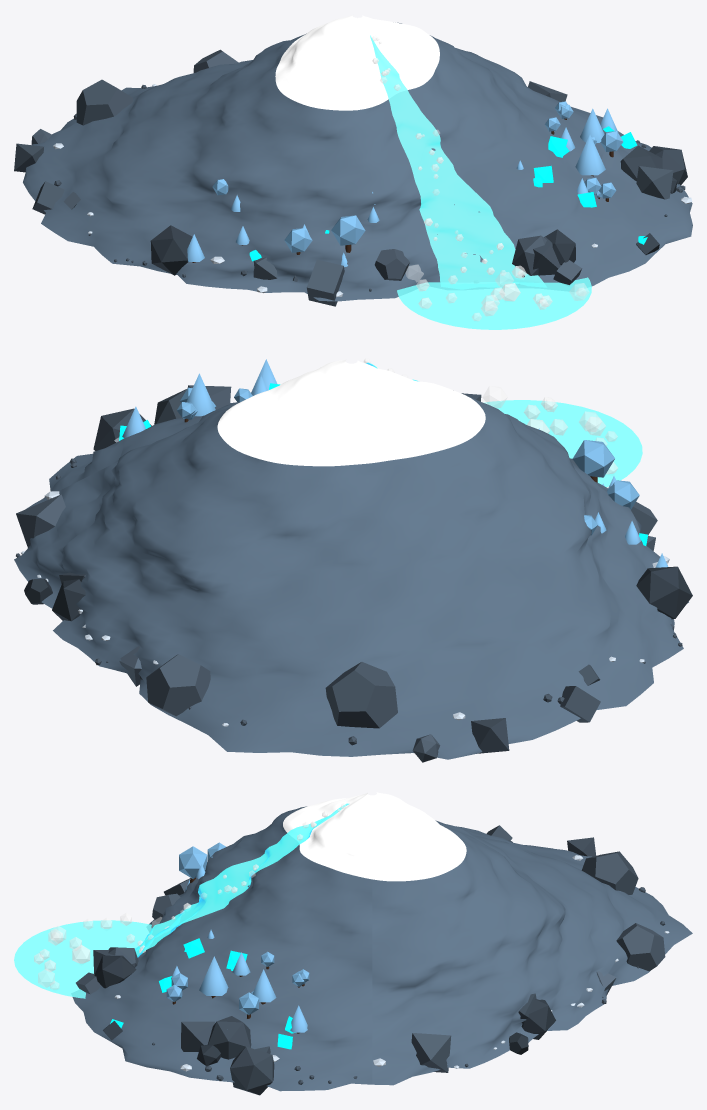
File: montana_3.glb
3 renders of one model, top to bottom at view 1: azimuth 30°, elevation 25°; view 2: azimuth 150°, elevation 25°; view 3: azimuth 270°, elevation 25°, orthographic. The views are drawn at different scales.
Visible parts, largest first — view 1: tierra, rio, cima, poza_agua, copa (×3), roca_13, roca_18, roca_21, roca_16, roca_15, roca_22, roca_4 (+6 smaller); view 2: tierra, cima, poza_agua, roca_13, roca_3, copa (×3), roca_18, roca_7, roca_11, roca_17, roca_10, roca_23 (+1 smaller); view 3: tierra, cima, poza_agua, rio, roca_23, roca_3, roca_13, copa (×2), roca_4, roca_7, roca_1, roca_16 (+1 smaller).
Part boxes in pixels (x1,y1,x2,y2): tierra: (23, 22, 692, 301); rio: (370, 35, 544, 284); cima: (275, 15, 439, 110); poza_agua: (397, 277, 591, 329); copa (×3): (284, 134, 605, 252); roca_13: (76, 79, 132, 125); roca_18: (150, 225, 192, 275); roca_21: (306, 259, 344, 306); roca_16: (636, 166, 673, 199); roca_15: (374, 249, 409, 280); roca_22: (512, 235, 546, 275); roca_4: (620, 145, 662, 180); tierra: (14, 396, 688, 759); cima: (217, 359, 485, 466); poza_agua: (484, 400, 642, 487); roca_13: (325, 662, 397, 728); roca_3: (146, 654, 210, 716); copa (×3): (186, 373, 639, 509); roca_18: (636, 566, 692, 619); roca_7: (16, 494, 65, 547); roca_11: (471, 718, 509, 753); roca_17: (52, 579, 85, 621); roca_10: (560, 686, 600, 722); roca_23: (93, 408, 151, 450); tierra: (72, 806, 692, 1091); cima: (283, 792, 466, 881); poza_agua: (14, 920, 151, 998); rio: (135, 803, 349, 957); roca_23: (230, 1046, 274, 1095); roca_3: (616, 923, 665, 971); roca_13: (581, 851, 638, 894); copa (×2): (179, 846, 228, 995); roca_4: (208, 1016, 251, 1059); roca_7: (411, 1033, 451, 1072); roca_1: (94, 955, 136, 988); roca_16: (181, 1021, 214, 1051).
Bounding box in the file's own units: 31.81 × 10.84 × 35.99.
